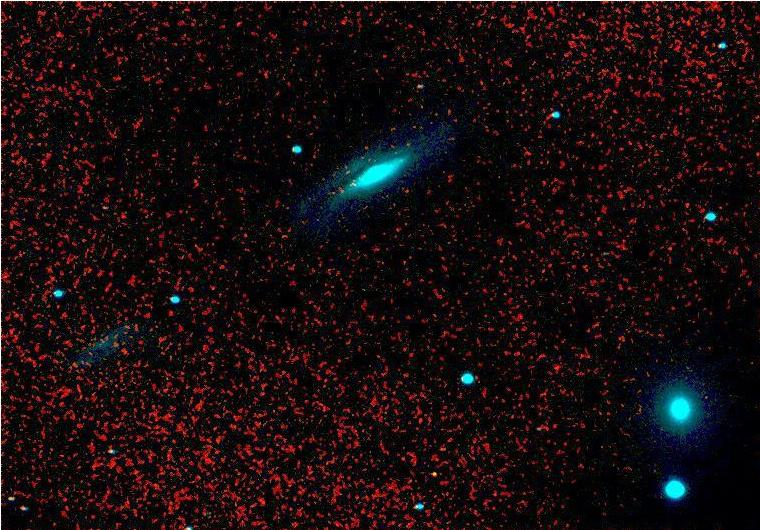star: (425, 463, 455, 493)
